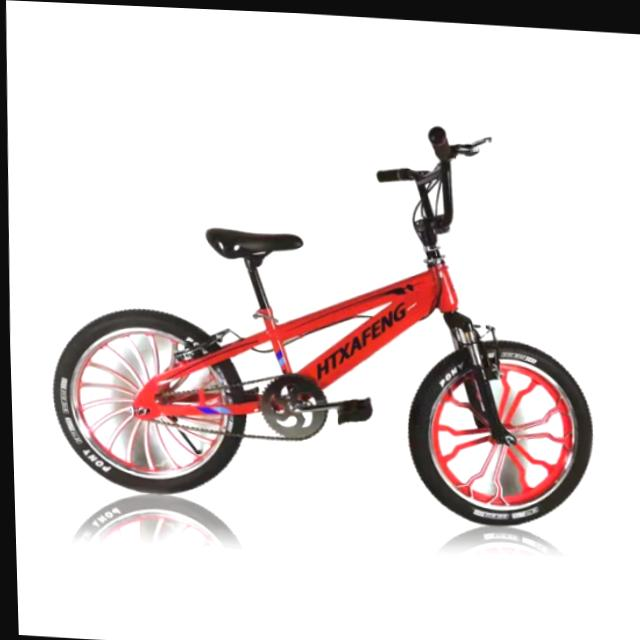bmx-bike: (39, 99, 600, 531)
